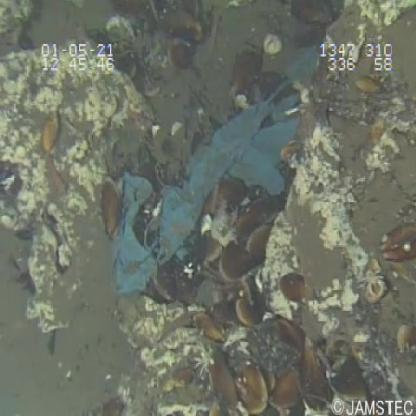Rác: (105, 44, 329, 296)
